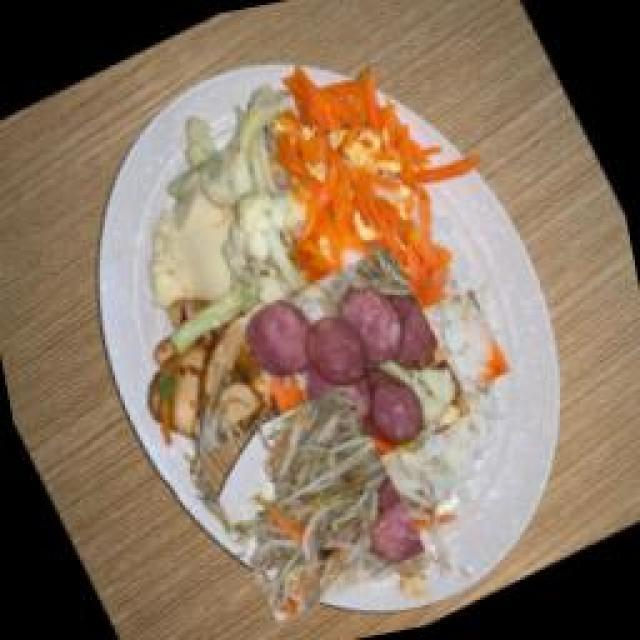carrot_eggs: (225, 20, 495, 373)
chinese_sausage: (228, 235, 481, 498)
mung_bean_sprouts: (188, 378, 438, 628)
rice: (420, 280, 515, 398)
